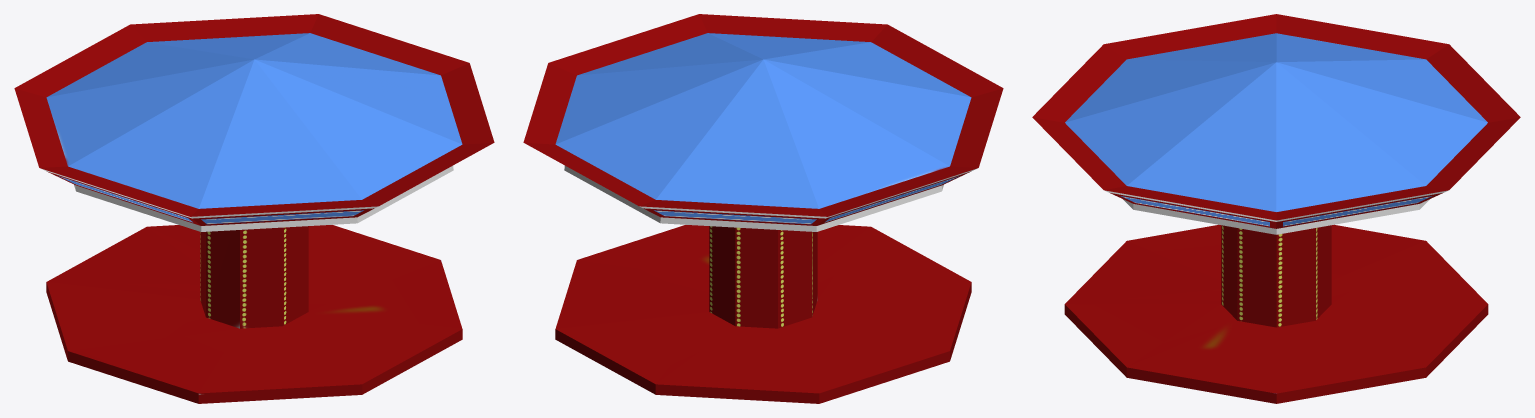
Rendered from merigora.obj.
The picture shows the model from 3 angles, left to right: view 1: azimuth 30°, elevation 25°; view 2: azimuth 150°, elevation 25°; view 3: azimuth 270°, elevation 25°; orthographic projection.
Visible parts, largest first — view 1: Cylinder.001; view 2: Cylinder.001; view 3: Cylinder.001.
Boxes of the visible parts, box(x1,y1,x2,y2) form: Cylinder.001: box(14, 14, 494, 403); Cylinder.001: box(523, 14, 1003, 403); Cylinder.001: box(1032, 14, 1520, 403).
Bounding box in the file's own units: 12.43 × 7.08 × 12.43.
Materials: 1 (1 with a texture image).
